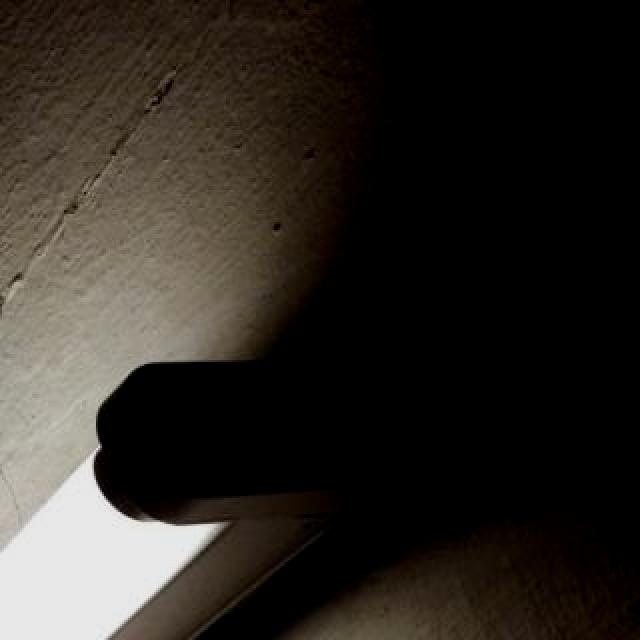fluorescent tube: (0, 358, 286, 640)
